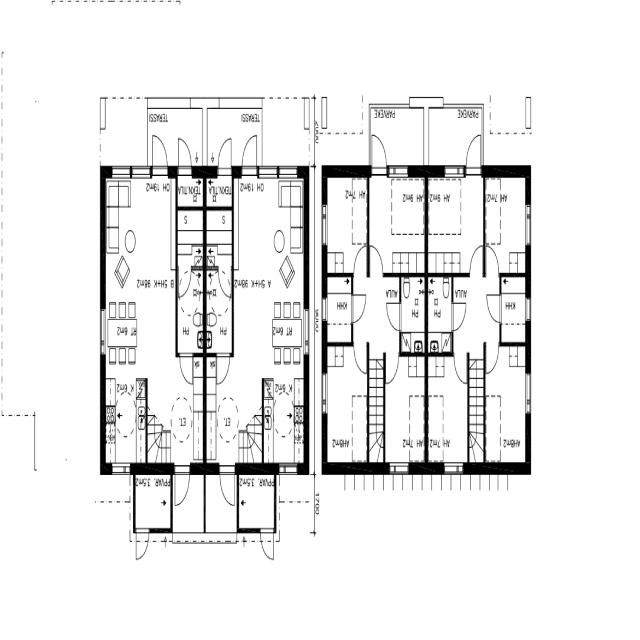door: (177, 267, 199, 312), (150, 131, 170, 178), (369, 130, 389, 176), (240, 131, 259, 176), (173, 463, 191, 508), (465, 130, 483, 174), (384, 296, 404, 334), (216, 135, 234, 177), (219, 466, 236, 508), (176, 134, 193, 175), (349, 290, 368, 326), (484, 291, 503, 326), (450, 298, 468, 333), (134, 527, 151, 564), (215, 350, 231, 387), (178, 350, 194, 387), (468, 241, 484, 277), (259, 526, 275, 562), (485, 242, 501, 278), (384, 351, 400, 386), (368, 242, 384, 277), (484, 342, 500, 376), (216, 266, 233, 298), (453, 350, 468, 386), (353, 342, 368, 376), (352, 243, 367, 276), (178, 266, 192, 298)
window: (257, 163, 298, 182), (108, 161, 134, 181), (99, 306, 108, 356), (524, 370, 532, 420), (441, 461, 464, 478), (388, 460, 411, 477), (302, 307, 310, 355), (443, 161, 464, 179), (390, 162, 410, 180), (110, 460, 132, 476), (524, 205, 532, 249), (321, 201, 328, 250), (321, 369, 328, 417), (278, 460, 298, 475), (218, 460, 235, 474), (321, 293, 328, 325), (525, 294, 532, 324)
zone: (103, 172, 177, 466), (233, 170, 306, 456), (367, 172, 427, 275), (426, 172, 484, 276), (485, 345, 527, 465), (326, 346, 366, 466), (427, 355, 468, 467), (384, 356, 425, 466), (325, 173, 369, 273), (484, 174, 528, 273), (262, 362, 304, 465), (451, 271, 501, 346), (205, 264, 232, 356), (177, 270, 204, 354), (135, 474, 172, 531), (426, 273, 452, 354), (401, 272, 426, 354), (325, 274, 353, 342), (500, 276, 528, 344), (206, 208, 233, 245), (177, 172, 204, 208), (177, 209, 204, 244), (206, 173, 233, 208), (176, 244, 204, 271)
